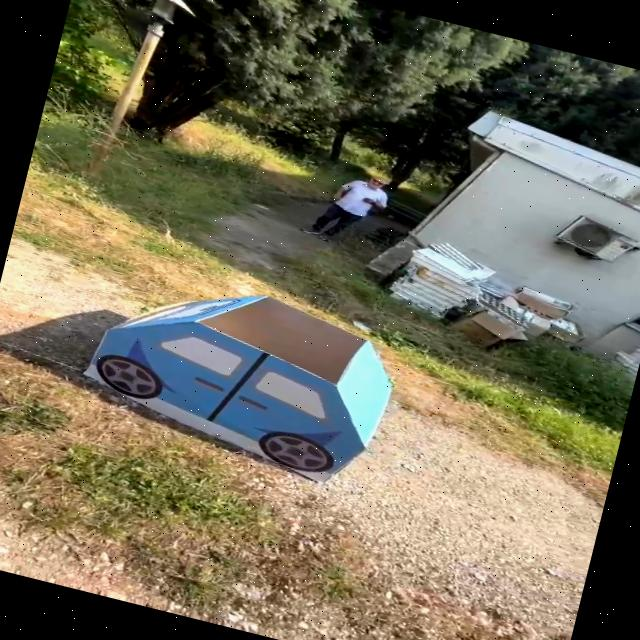blue_car: (48, 229, 423, 509)
